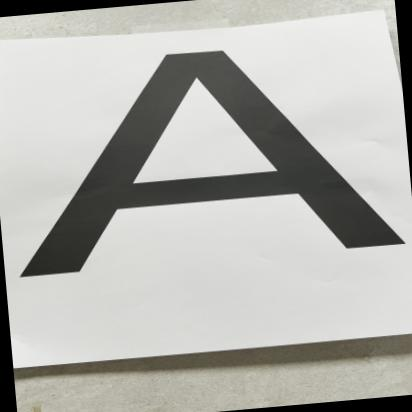seat: (12, 27, 412, 297)
